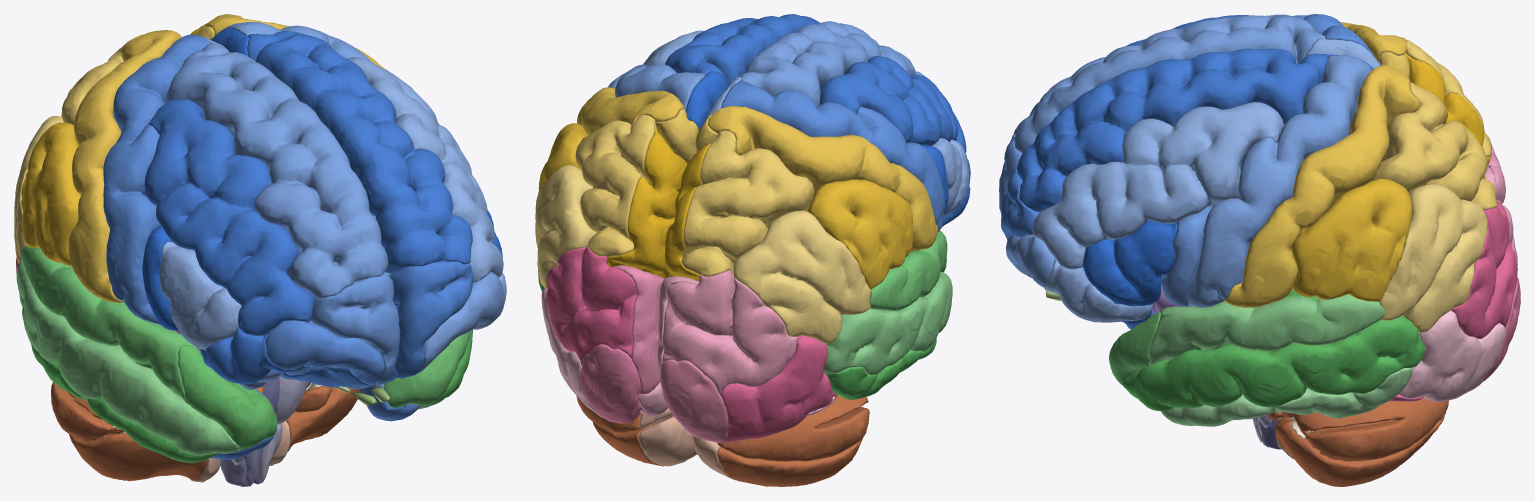
The model's file is cerebro.glb.
The picture shows the model from 3 angles, left to right: view 1: azimuth 30°, elevation 25°; view 2: azimuth 150°, elevation 25°; view 3: azimuth 270°, elevation 25°; orthographic projection. The views are drawn at different scales.
Parts seen in each view (by area): view 1: Allen_superior_frontal_gyrus_L, Allen_middle_frontal_gyrus_L, Allen_superior_frontal_gyrus_R, Allen_middle_temporal_gyrus_L, Allen_precentral_gyrus_L, Allen_postcentral_gyrus_L, Allen_superior_temporal_gyrus_L, Allen_middle_frontal_gyrus_R, Allen_supramarginal_gyrus_L, Allen_rostral_gyrus_R, Allen_lateral_hemisphere_of_cerebellum_L, Allen_inferior_frontal_gyrus_triangular_part_L (+19 smaller); view 2: Allen_angular_gyrus_L, Allen_supraparietal_lobule_L, Allen_superior_occipital_gyrus_L, Allen_postcentral_gyrus_L, Allen_lateral_hemisphere_of_cerebellum_L, Allen_superior_occipital_gyrus_R, Allen_supraparietal_lobule_R, Allen_precentral_gyrus_L, Allen_supramarginal_gyrus_L, Allen_middle_frontal_gyrus_L, Allen_superior_frontal_gyrus_L, Allen_inferior_occipital_gyrus_L (+24 smaller); view 3: Allen_middle_frontal_gyrus_R, Allen_superior_frontal_gyrus_R, Allen_middle_temporal_gyrus_R, Allen_precentral_gyrus_R, Allen_postcentral_gyrus_R, Allen_supramarginal_gyrus_R, Allen_angular_gyrus_R, Allen_superior_temporal_gyrus_R, Allen_lateral_hemisphere_of_cerebellum_R, Allen_superior_frontal_gyrus_L, Allen_supraparietal_lobule_R, Allen_inferior_frontal_gyrus_triangular_part_R (+16 smaller).
Part boxes in pixels (x1,y1,x2,y2): Allen_superior_frontal_gyrus_L: [165, 43, 388, 299]; Allen_middle_frontal_gyrus_L: [144, 98, 315, 335]; Allen_superior_frontal_gyrus_R: [247, 31, 472, 273]; Allen_middle_temporal_gyrus_L: [16, 260, 238, 455]; Allen_precentral_gyrus_L: [103, 34, 210, 325]; Allen_postcentral_gyrus_L: [68, 30, 181, 302]; Allen_superior_temporal_gyrus_L: [21, 245, 196, 404]; Allen_middle_frontal_gyrus_R: [347, 56, 503, 282]; Allen_supramarginal_gyrus_L: [21, 122, 81, 266]; Allen_rostral_gyrus_R: [389, 260, 473, 378]; Allen_lateral_hemisphere_of_cerebellum_L: [51, 382, 207, 481]; Allen_inferior_frontal_gyrus_triangular_part_L: [159, 241, 241, 350]; Allen_angular_gyrus_L: [733, 210, 870, 344]; Allen_supraparietal_lobule_L: [681, 130, 814, 276]; Allen_superior_occipital_gyrus_L: [662, 270, 798, 395]; Allen_postcentral_gyrus_L: [707, 106, 938, 251]; Allen_lateral_hemisphere_of_cerebellum_L: [717, 394, 869, 486]; Allen_superior_occipital_gyrus_R: [546, 245, 636, 365]; Allen_supraparietal_lobule_R: [575, 114, 655, 256]; Allen_precentral_gyrus_L: [721, 81, 944, 231]; Allen_supramarginal_gyrus_L: [807, 179, 912, 289]; Allen_middle_frontal_gyrus_L: [819, 55, 966, 152]; Allen_superior_frontal_gyrus_L: [740, 21, 923, 106]; Allen_inferior_occipital_gyrus_L: [721, 335, 836, 442]; Allen_middle_frontal_gyrus_R: [1032, 102, 1284, 269]; Allen_superior_frontal_gyrus_R: [1017, 48, 1327, 212]; Allen_middle_temporal_gyrus_R: [1122, 315, 1425, 411]; Allen_precentral_gyrus_R: [1188, 55, 1371, 307]; Allen_postcentral_gyrus_R: [1225, 65, 1420, 307]; Allen_supramarginal_gyrus_R: [1290, 179, 1412, 301]; Allen_angular_gyrus_R: [1379, 184, 1487, 333]; Allen_superior_temporal_gyrus_R: [1149, 294, 1384, 365]; Allen_lateral_hemisphere_of_cerebellum_R: [1267, 397, 1448, 486]; Allen_superior_frontal_gyrus_L: [1013, 14, 1325, 153]; Allen_supraparietal_lobule_R: [1371, 82, 1497, 209]; Allen_inferior_frontal_gyrus_triangular_part_R: [1082, 220, 1177, 306].
Size of the model in its own units: 0.1364 by 0.1461 by 0.167.
